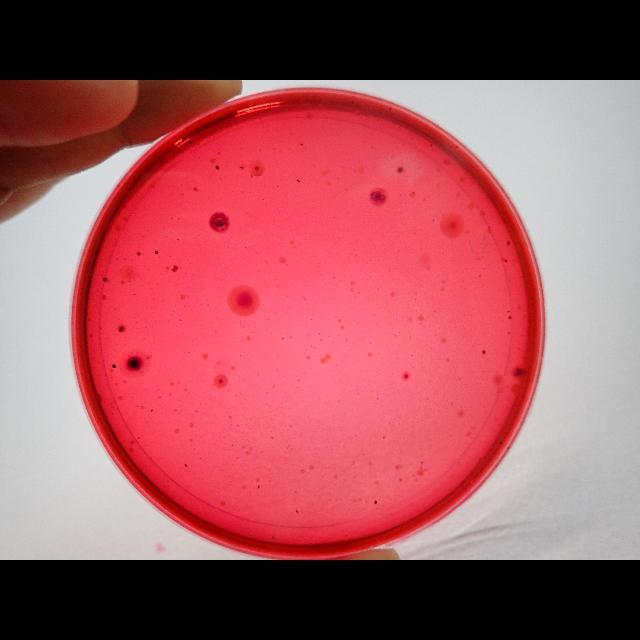colony: (126, 356, 142, 372), (512, 364, 522, 380), (396, 163, 406, 174), (294, 174, 302, 186), (153, 248, 161, 258), (110, 361, 118, 371), (504, 238, 511, 248), (506, 314, 514, 322), (214, 162, 220, 172), (481, 348, 487, 357), (102, 275, 108, 283), (294, 507, 300, 515), (270, 533, 276, 541), (373, 498, 379, 506), (187, 138, 193, 146), (136, 250, 142, 256), (159, 157, 163, 166), (257, 482, 261, 490), (504, 256, 508, 264)
